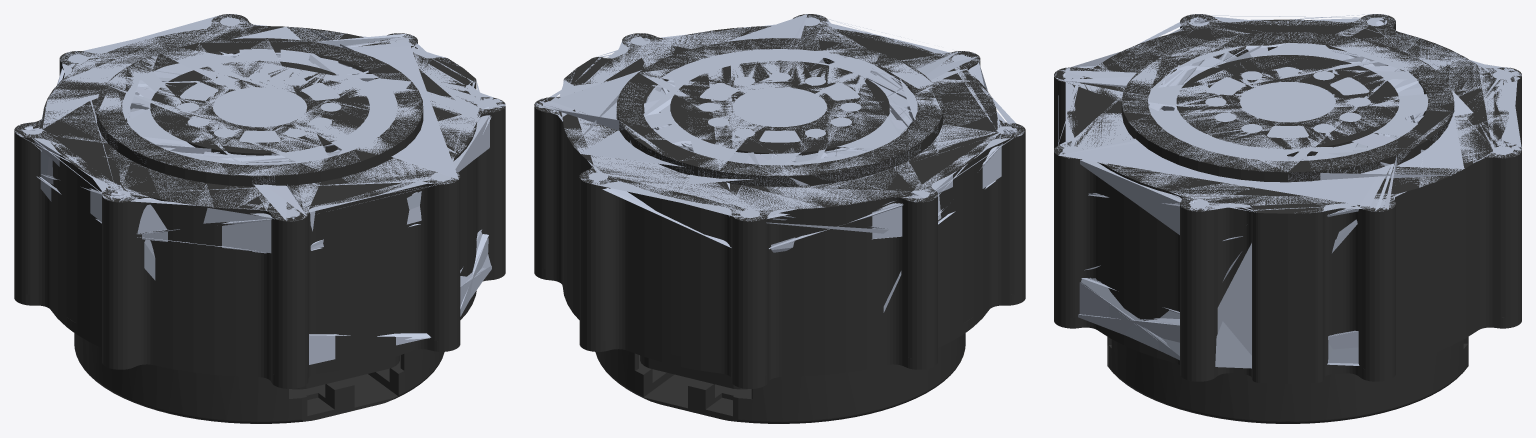
The model's file is FL_thigh_link.dae.
3 views of the same model, side by side, from view 1: azimuth 30°, elevation 25°; view 2: azimuth 150°, elevation 25°; view 3: azimuth 270°, elevation 25° (orthographic).
Parts seen in each view (by area): view 1: node0, node5, node3, node1; view 2: node0, node5, node1, node3; view 3: node0, node5, node3, node1.
Boxes of the visible parts, x1,y1,x2,y2 form: node0: (14, 14, 505, 423); node5: (21, 22, 504, 258); node3: (17, 14, 505, 364); node1: (15, 14, 505, 306); node0: (534, 14, 1025, 423); node5: (537, 14, 1016, 312); node1: (535, 15, 1023, 242); node3: (536, 15, 1022, 249); node0: (1054, 14, 1521, 423); node5: (1055, 16, 1517, 355); node3: (1061, 14, 1521, 365); node1: (1054, 14, 1521, 368).
Bounding box in the file's own units: 0.0995 × 0.0566 × 0.0985.
